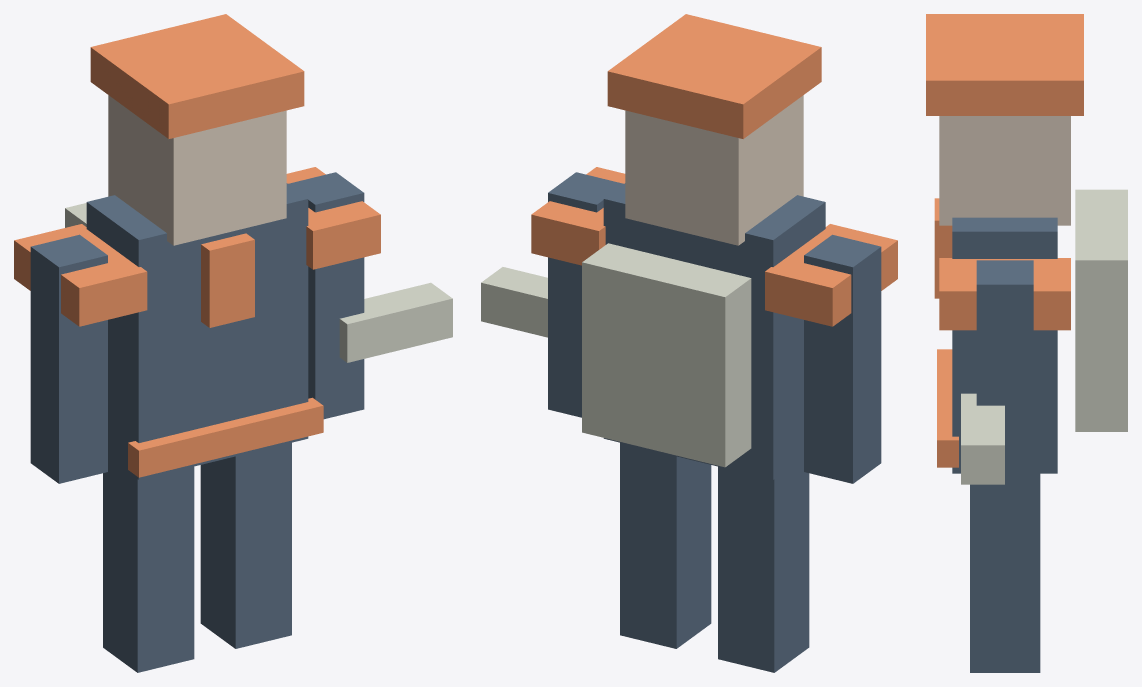
Rendered from 17_vale_emberkin_keeper_under_maintenance.glb.
3 renders of one model, left to right at view 1: azimuth 30°, elevation 25°; view 2: azimuth 150°, elevation 25°; view 3: azimuth 270°, elevation 25°, orthographic.
Visible parts, largest first — view 1: Vale Emberkin, Keeper under Maintenance; view 2: Vale Emberkin, Keeper under Maintenance; view 3: Vale Emberkin, Keeper under Maintenance.
Part boxes in pixels (x1=…): Vale Emberkin, Keeper under Maintenance: x1=14, y1=14, x2=452, y2=672; Vale Emberkin, Keeper under Maintenance: x1=481, y1=14, x2=897, y2=672; Vale Emberkin, Keeper under Maintenance: x1=926, y1=14, x2=1127, y2=672.
Bounding box in the file's own units: 1.1 × 1.59 × 0.4953.
